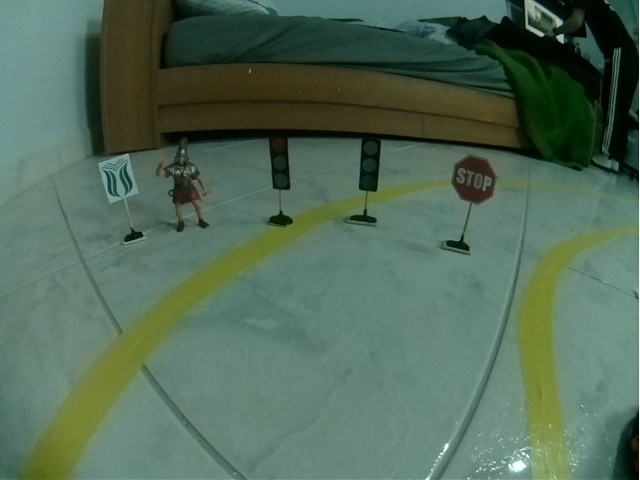Green Traffic Light: (358, 137, 382, 193)
Person: (155, 137, 213, 232)
Red Traffic Light: (268, 133, 291, 191)
Stop: (451, 153, 497, 206)
Subu: (97, 154, 139, 204)
